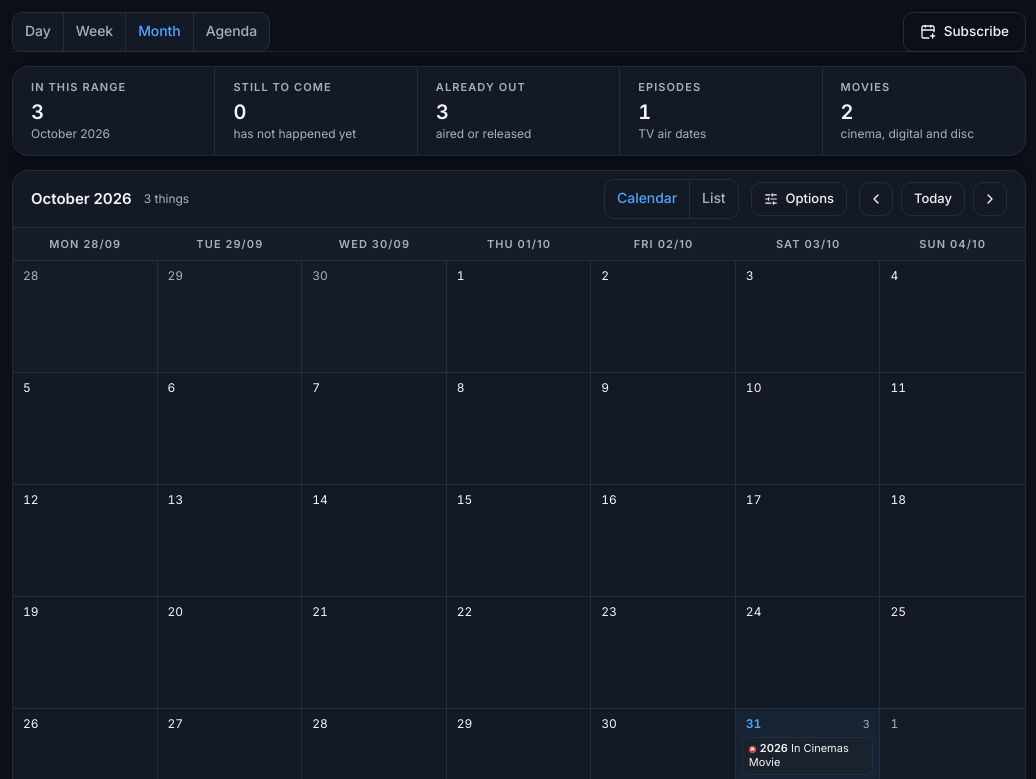
Scenario: Calendar scopes (#786) › hides the Calendar/List view toggle once Day is picked, since a day has no grid shape
The image size is (1036, 779).
Click the radio button labelled "Day" at [38, 32], box [13,12,64,50]
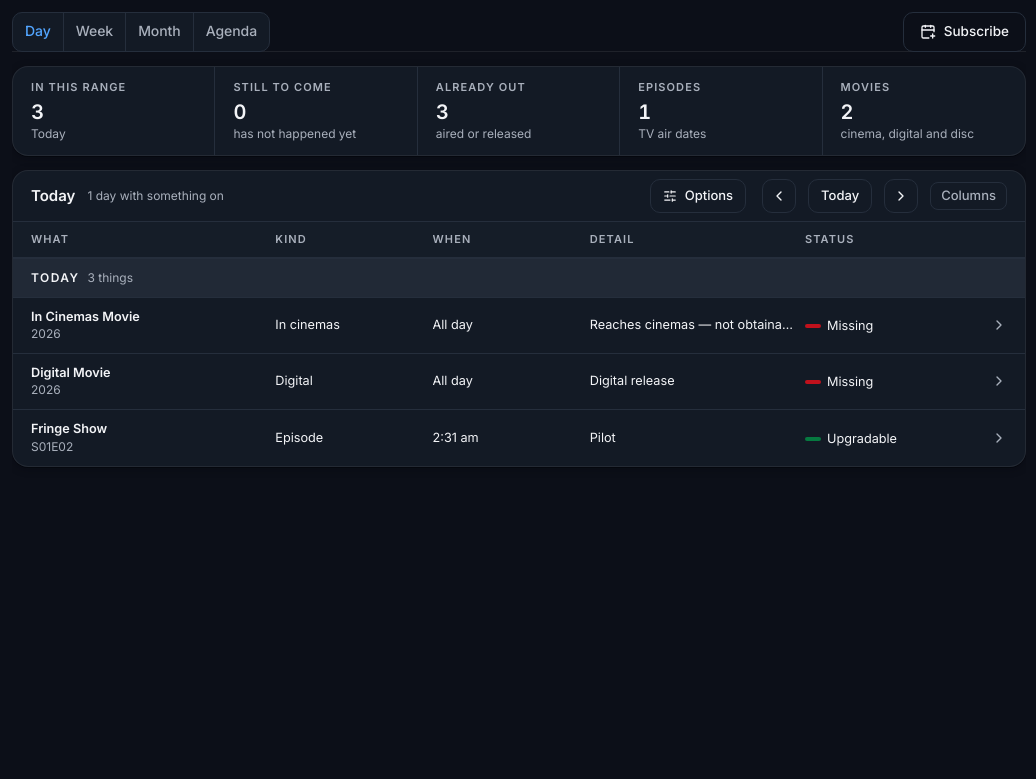
Expected: the text "Fringe Show" is shown, [31,421,107,436]
Result: the radio button labelled "Calendar" is gone
